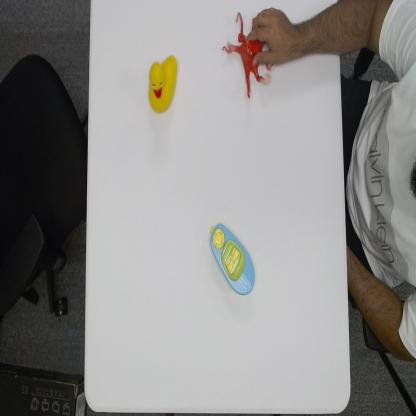Arm: (300, 0, 382, 62)
Boat: (207, 221, 256, 297)
Duck: (148, 52, 178, 114)
Hand: (244, 7, 298, 68)
Octopus: (222, 10, 272, 100)
